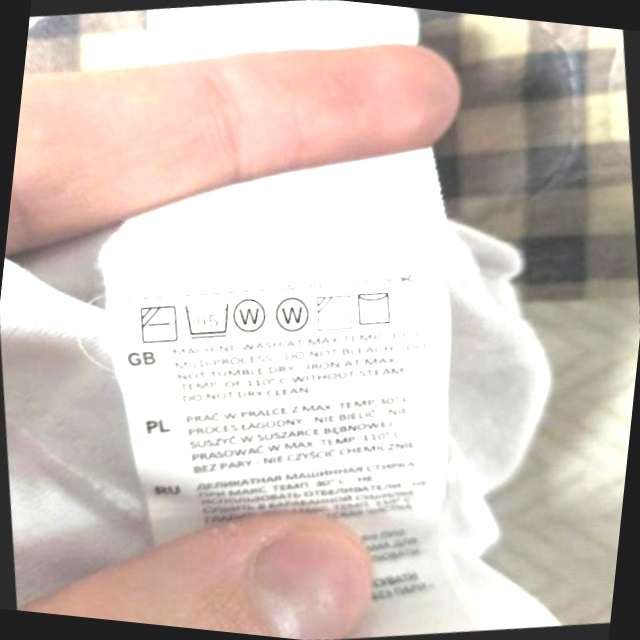95C: (179, 294, 237, 345)
dry_flat_in_shade: (133, 298, 184, 350)
line_dry: (350, 283, 400, 332)
shade_dry: (310, 288, 359, 337)
wet_clean: (269, 291, 316, 340), (228, 289, 274, 339)
